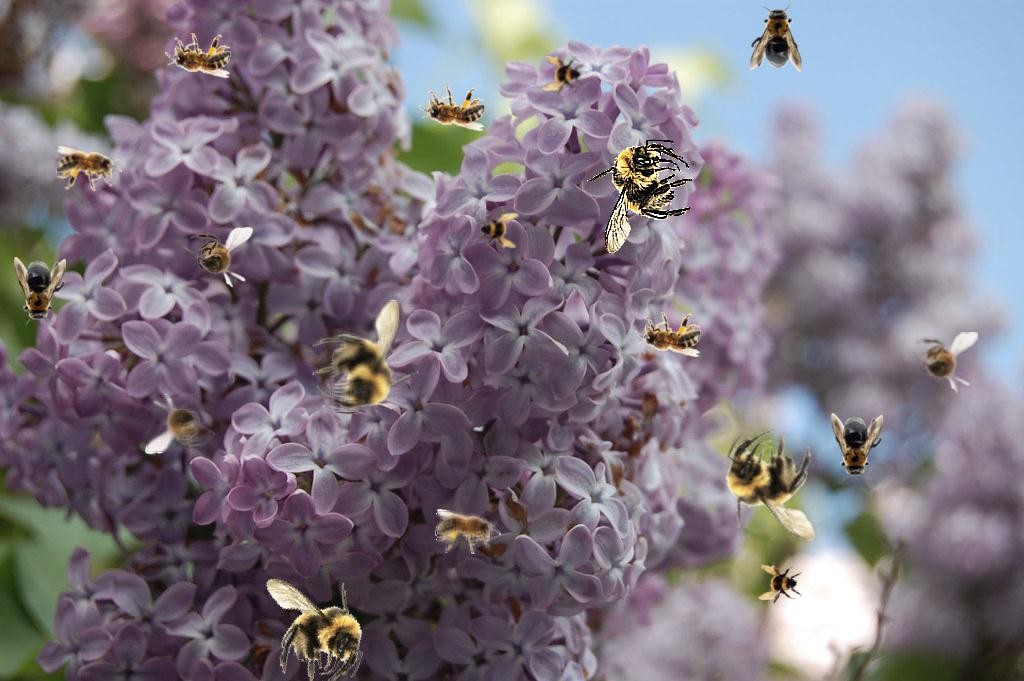Bee: (700, 415, 851, 562), (239, 558, 384, 681), (586, 139, 693, 254), (312, 299, 419, 414), (908, 332, 978, 393), (183, 227, 253, 288), (145, 393, 215, 454), (14, 257, 66, 325), (750, 4, 802, 72), (831, 413, 883, 481), (435, 509, 501, 554), (165, 33, 231, 78), (635, 312, 701, 357), (56, 146, 122, 191), (419, 86, 485, 131), (475, 206, 519, 250), (542, 54, 586, 98), (758, 563, 802, 607)
